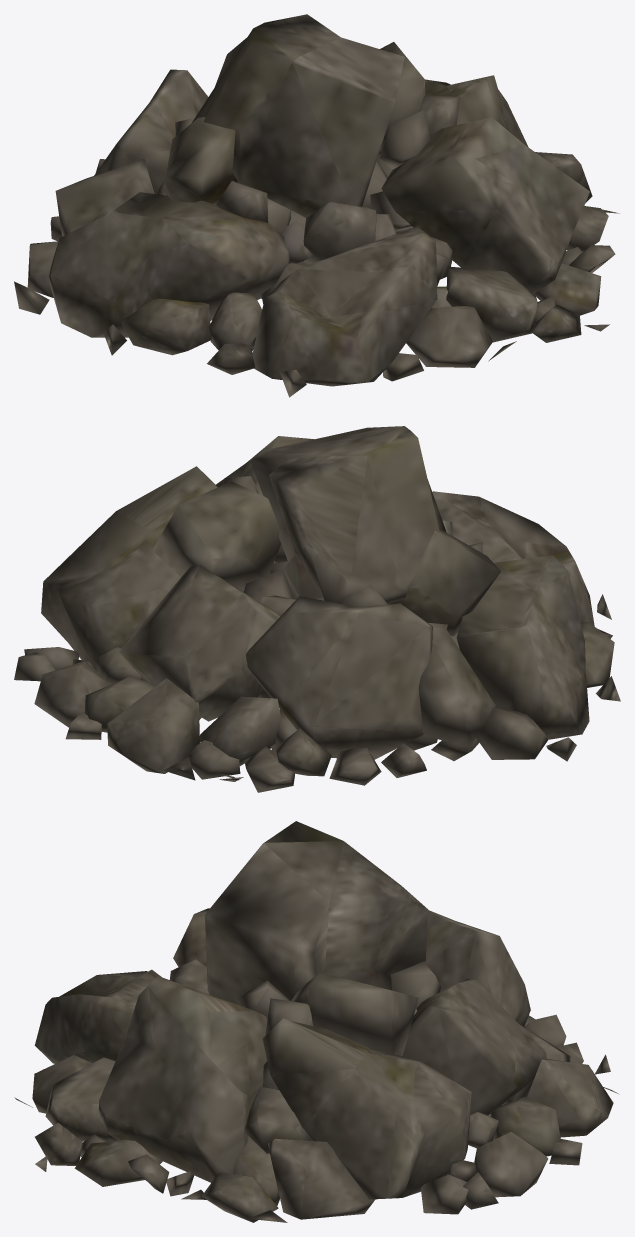
Rendered from x_rock_single_E.glb.
3 renders of one model, top to bottom at view 1: azimuth 30°, elevation 25°; view 2: azimuth 150°, elevation 25°; view 3: azimuth 270°, elevation 25°, orthographic.
Parts seen in each view (by area): view 1: x_rock_single_E; view 2: x_rock_single_E; view 3: x_rock_single_E.
Boxes of the visible parts, <box> form: x_rock_single_E: <box>14,14,619,397</box>; x_rock_single_E: <box>14,426,620,792</box>; x_rock_single_E: <box>14,821,619,1222</box>.
Bounding box in the file's own units: 0.4787 × 0.2254 × 0.4734.
1 material, 1 textured.
